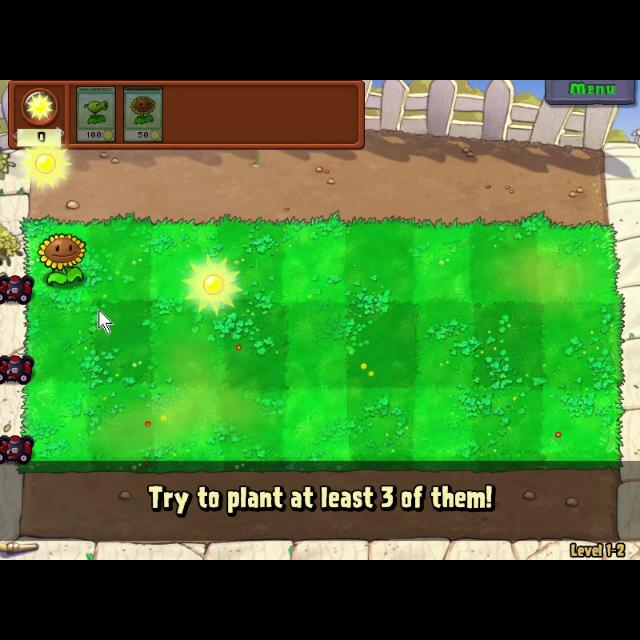Garden: (17, 212, 628, 476)
Menu Button: (544, 80, 636, 104)
Mower: (0, 268, 36, 310), (0, 350, 38, 388), (1, 432, 36, 466)
Peashooter: (74, 83, 118, 143)
Seed Panel: (5, 80, 368, 152)
Sun: (178, 253, 248, 317), (19, 136, 73, 192)
Sunflower: (122, 81, 164, 142)
Sunflower Seed: (35, 234, 91, 288)
